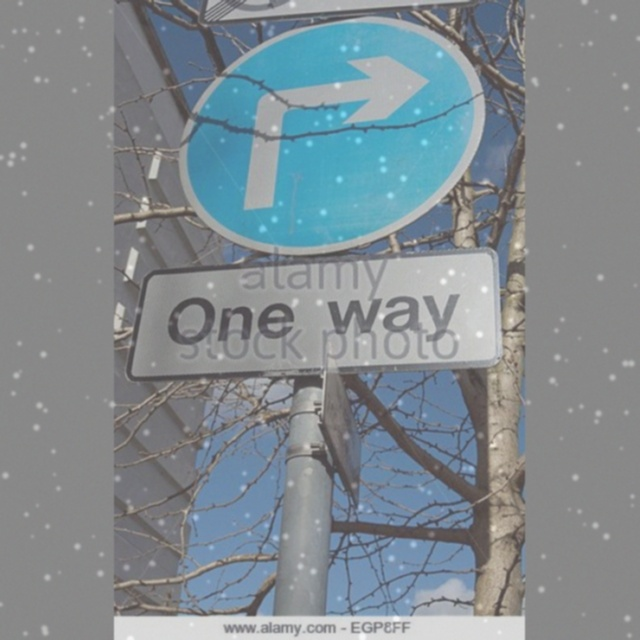Compulsory_Turn_Right_Ahead: (179, 18, 482, 245)
